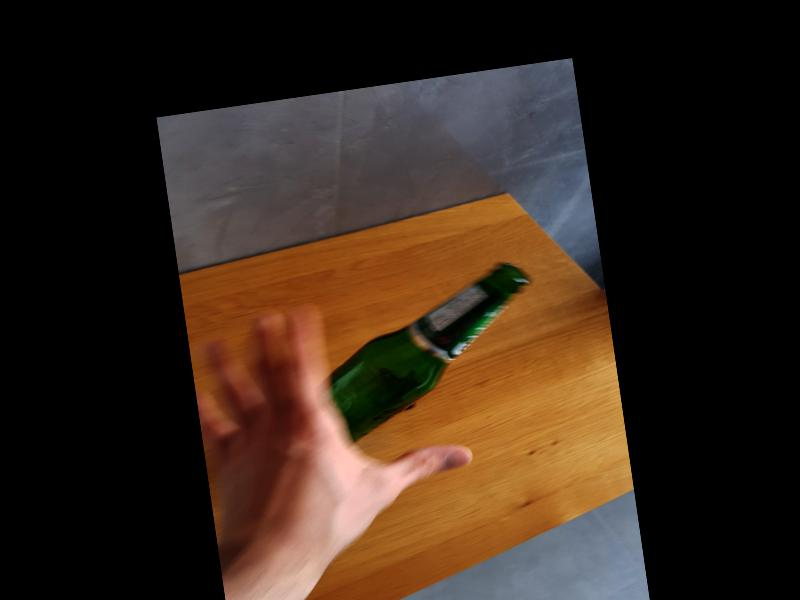Beer: (317, 260, 549, 445)
